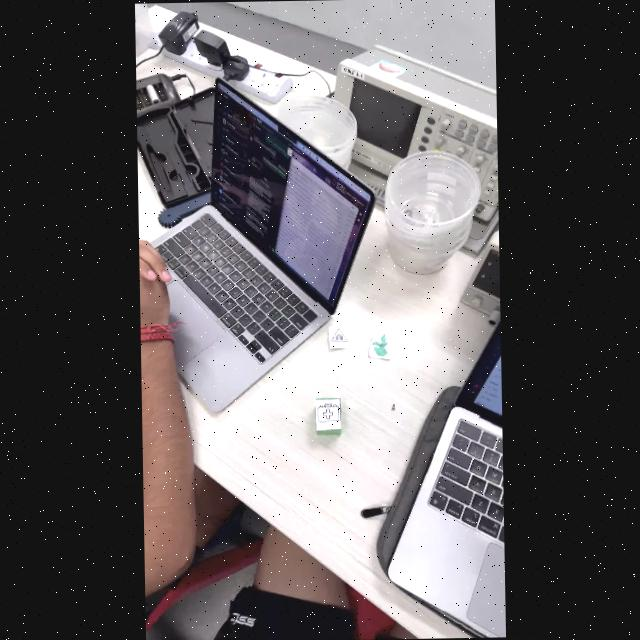Medkit: (317, 402, 338, 424)
